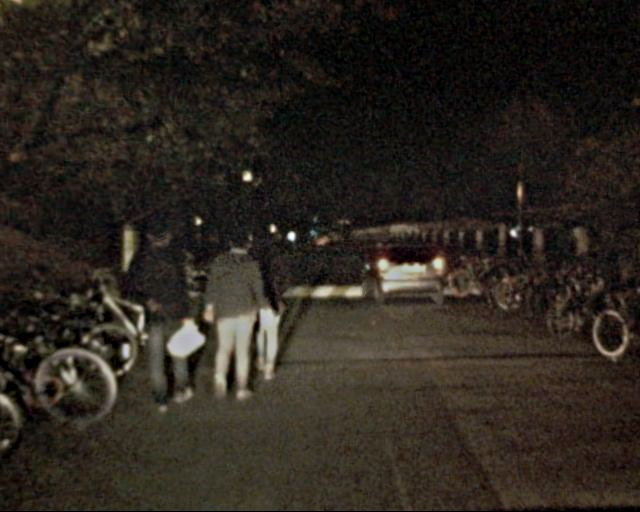person: (121, 216, 201, 415), (192, 231, 266, 400), (229, 225, 294, 385)
